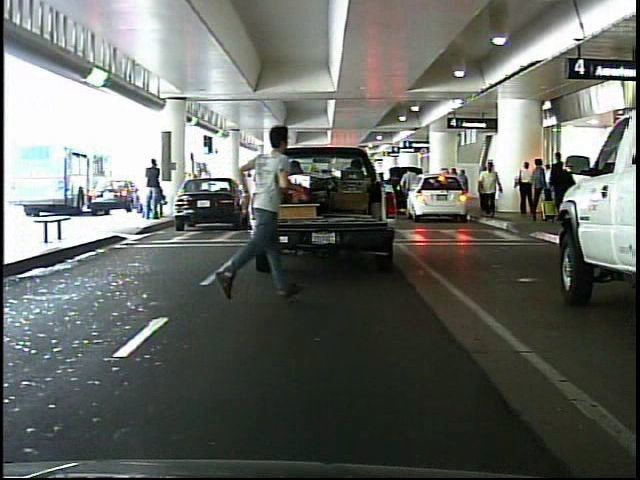person: (207, 122, 304, 320), (475, 156, 504, 226), (551, 151, 574, 224), (515, 156, 539, 220), (147, 157, 169, 219), (530, 158, 550, 225)
